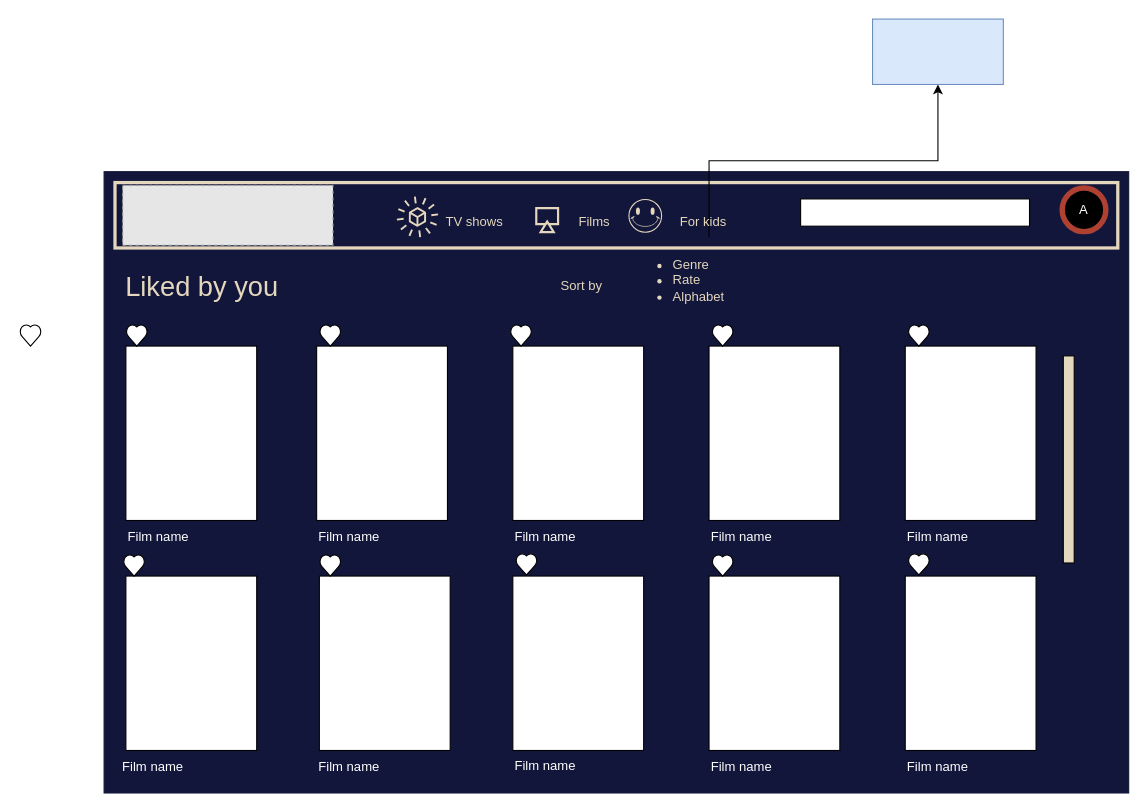
This 1148x812 diagram has some shape labels left out. Grey dashed boxes stand in for pictures. The centre of each missing label's shape, as x and y in pixels:
"Search..." goes at (915,212).
"User can select how to sort the list of liked films" goes at (937,51).
